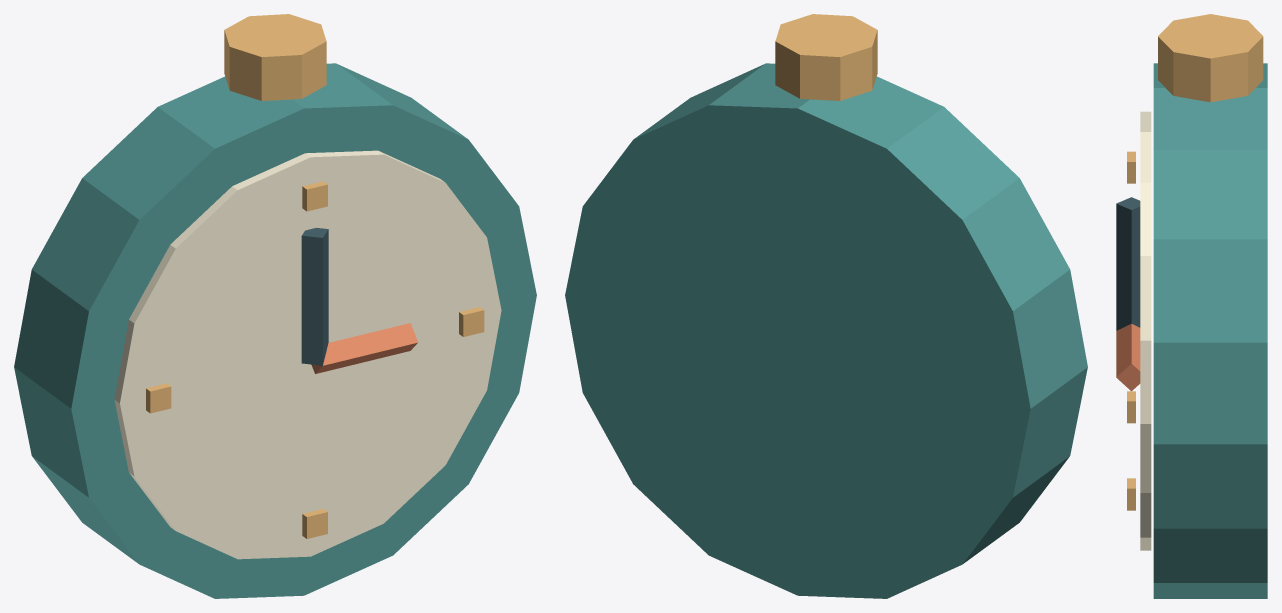
File: clock.glb
3 views of the same model, side by side, from view 1: azimuth 30°, elevation 25°; view 2: azimuth 150°, elevation 25°; view 3: azimuth 270°, elevation 25° (orthographic).
Visible parts, largest first — view 1: collectible; view 2: collectible; view 3: collectible.
Boxes of the visible parts, x1,y1,x2,y2 form: collectible: (14, 14, 536, 598); collectible: (565, 14, 1087, 598); collectible: (1116, 14, 1267, 598).
Bounding box in the file's own units: 1.22 × 1.35 × 0.345.
